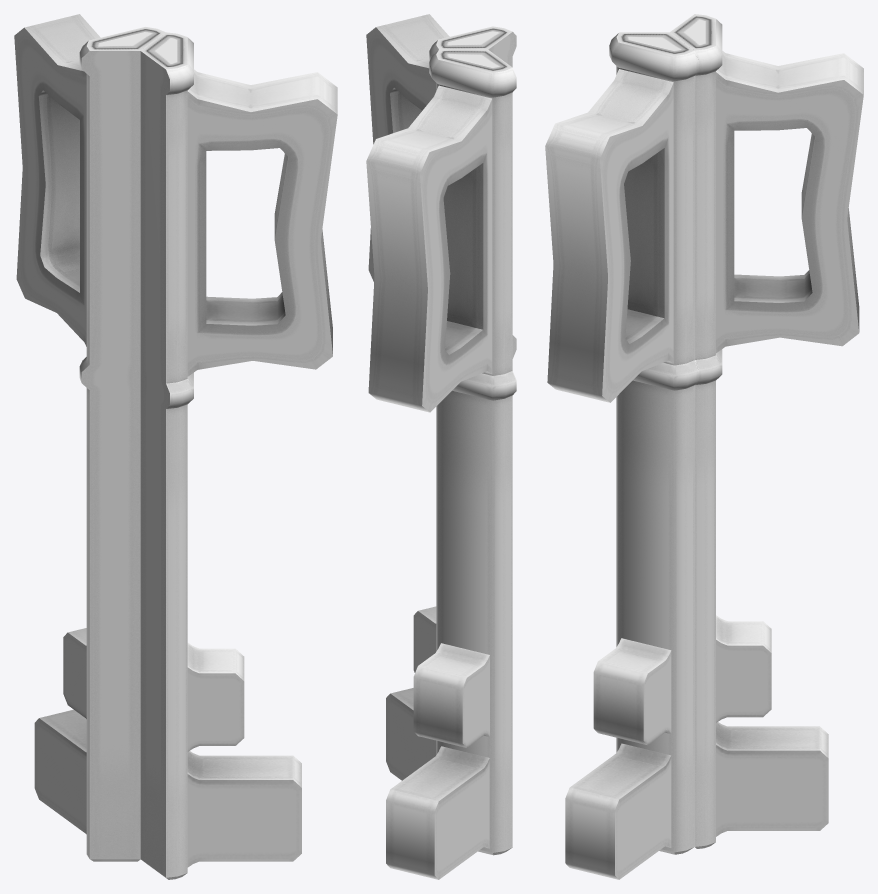
Rendered from 229_a_two_part_key.fbx.
3 renders of one model, left to right at view 1: azimuth 30°, elevation 25°; view 2: azimuth 150°, elevation 25°; view 3: azimuth 270°, elevation 25°, orthographic. The views are drawn at different scales.
Visible parts, largest first — view 1: 229_a_two_part_key; view 2: 229_a_two_part_key; view 3: 229_a_two_part_key.
Part boxes in pixels (x1,y1,x2,y2): 229_a_two_part_key: (14, 14, 337, 879); 229_a_two_part_key: (366, 14, 516, 879); 229_a_two_part_key: (545, 14, 863, 879).
Size of the model in its own units: 7.96 by 30.01 by 10.82.
